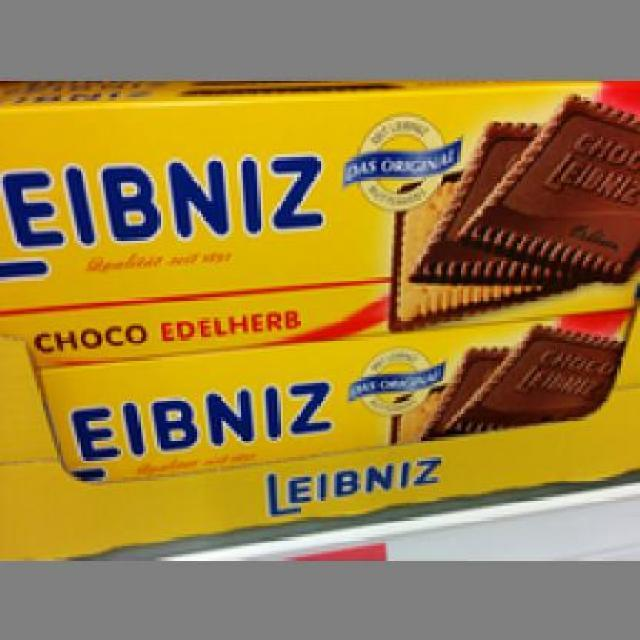Chocolate: (0, 76, 635, 369), (37, 306, 634, 480)
